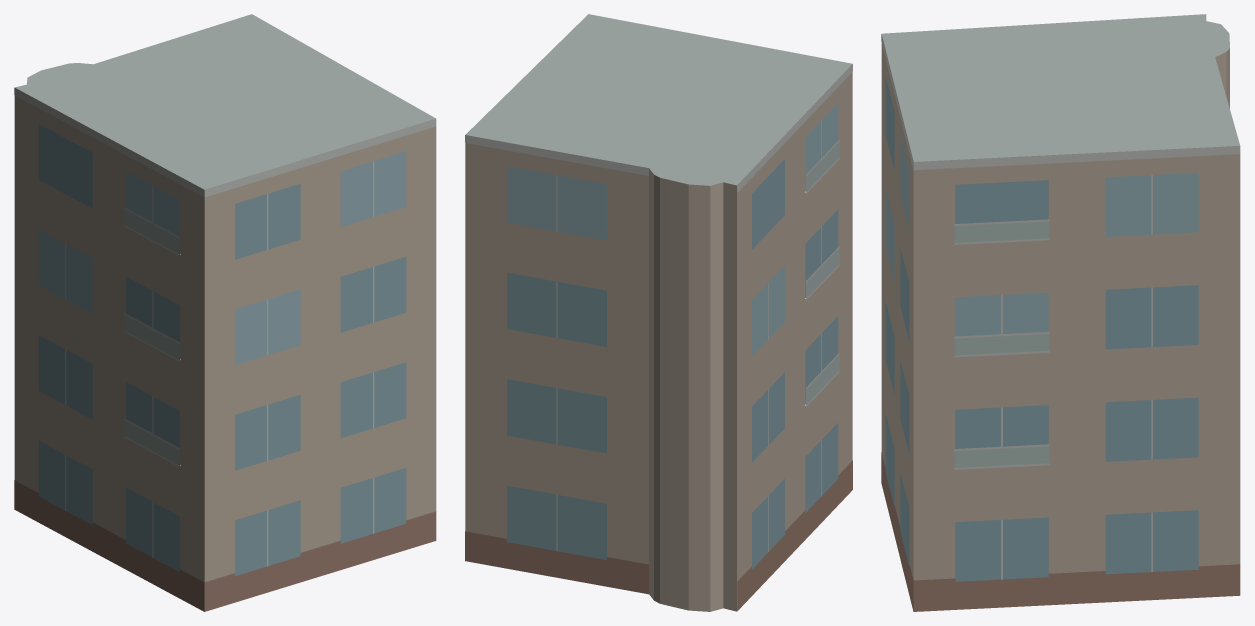
The model's file is survey-upis-32725401.glb.
3 renders of one model, left to right at view 1: azimuth 30°, elevation 25°; view 2: azimuth 150°, elevation 25°; view 3: azimuth 270°, elevation 25°, orthographic. The views are drawn at different scales.
Visible parts, largest first — view 1: survey-upis-32725401.tmp; view 2: survey-upis-32725401.tmp; view 3: survey-upis-32725401.tmp.
Boxes of the visible parts, box(x1,y1,x2,y2) form: survey-upis-32725401.tmp: box(14, 14, 436, 611); survey-upis-32725401.tmp: box(465, 14, 852, 611); survey-upis-32725401.tmp: box(881, 14, 1240, 611).
Bounding box in the file's own units: 9.32 × 13.2 × 9.55.
